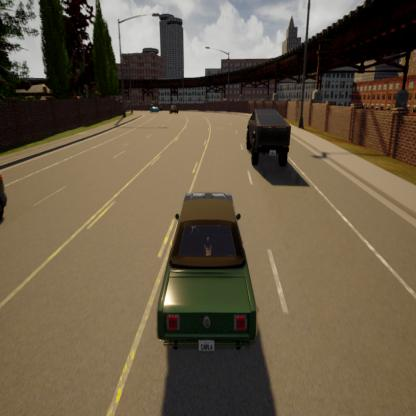Cars: (159, 178, 262, 373), (232, 92, 304, 177), (168, 100, 181, 116)
